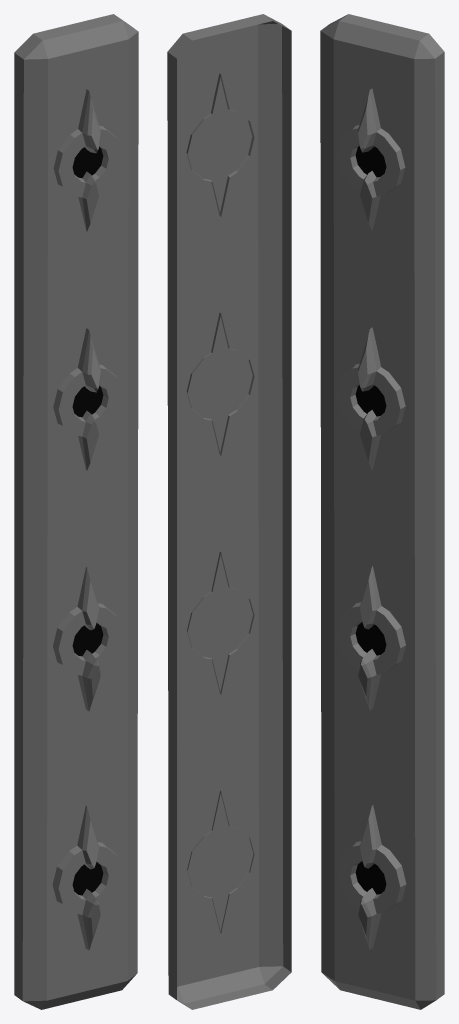
Rendered from MEDProjectileStoneTrap.fbx.
The picture shows the model from 3 angles, left to right: view 1: azimuth 30°, elevation 25°; view 2: azimuth 210°, elevation 25°; view 3: azimuth 330°, elevation 25°; orthographic projection.
Parts seen in each view (by area): view 1: MEDProjectileStoneTrap; view 2: MEDProjectileStoneTrap; view 3: MEDProjectileStoneTrap.
Boxes of the visible parts, x1,y1,x2,y2 form: MEDProjectileStoneTrap: (14, 14, 138, 1009); MEDProjectileStoneTrap: (167, 14, 291, 1009); MEDProjectileStoneTrap: (320, 14, 444, 1009).
Size of the model in its own units: 15.07 by 122 by 6.
